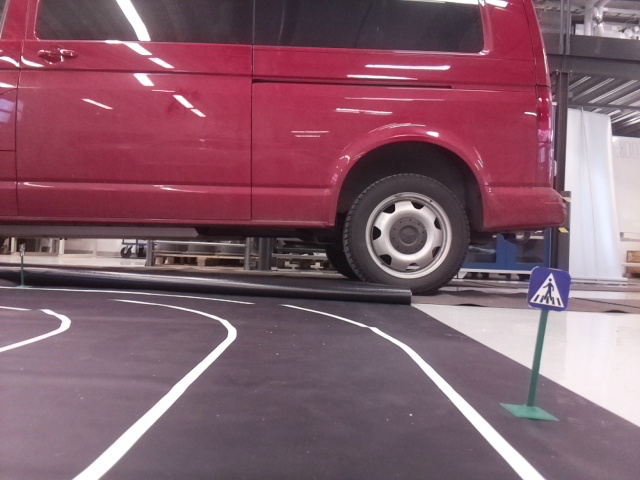Crosswalk: (527, 266, 567, 308)
